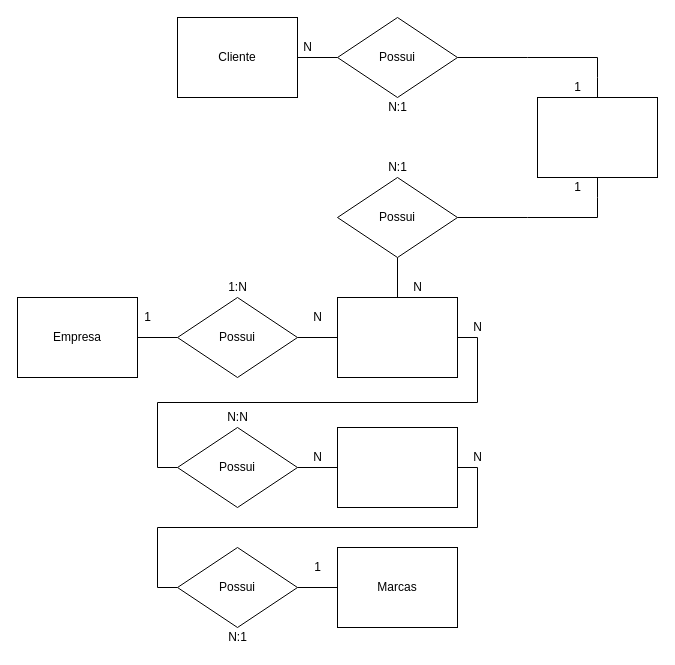
Image size: 675x665. Some labels were removed from this diagram. The centre of each missing label's shape, as x and y in pixels:
Aluguel: the point at 597,137
Modelos: the point at 397,467
Veiculo: the point at 397,337
